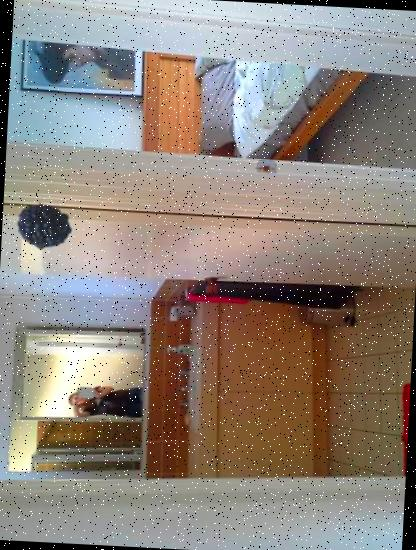Mulberry: (1, 195, 74, 268)
